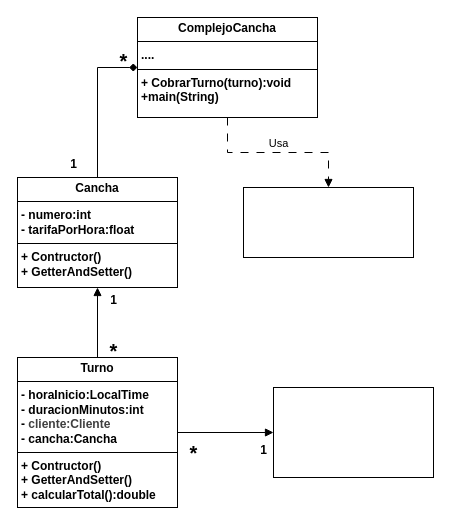
The diagram is 451 pixels wide and 525 high, and some of its shapes have lost their labels. Each missing label, with the centre of its shape:
"<<Interface>> ICobrable + cobrarTurno(Turno):void" belongs at [328,222].
"Cliente - nombre:String + Contructor() + GetterAndSetter()" belongs at [353,432].
